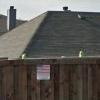Chimney: (4, 2, 19, 32)
